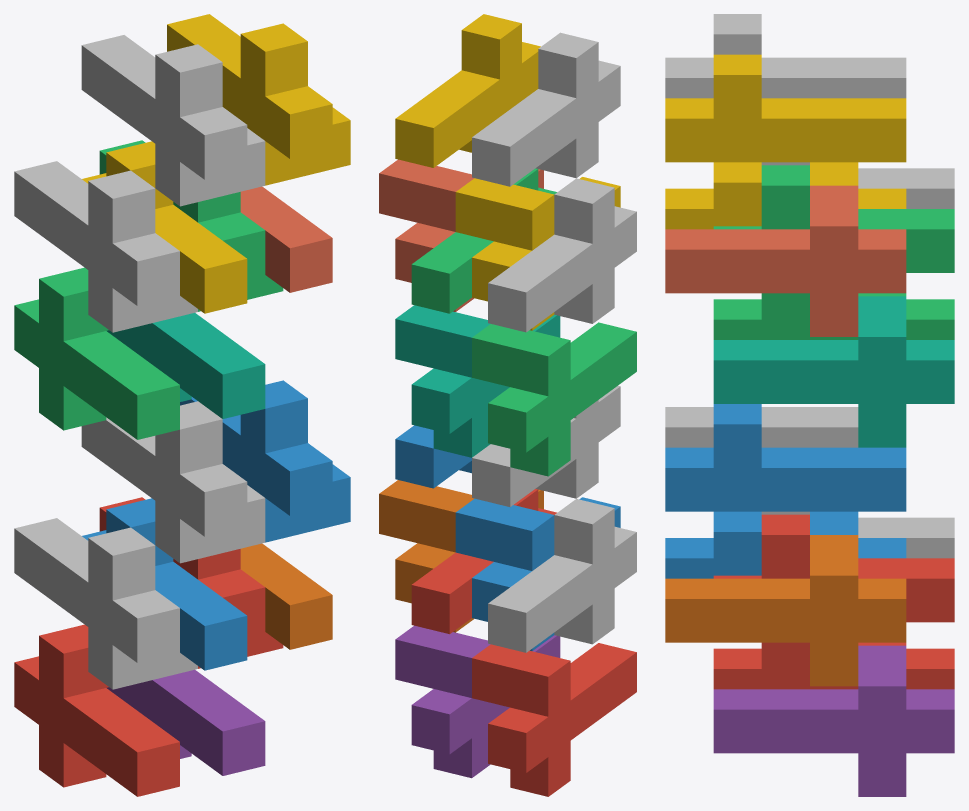
Rendered from tiling.obj.
3 renders of one model, left to right at view 1: azimuth 30°, elevation 25°; view 2: azimuth 150°, elevation 25°; view 3: azimuth 270°, elevation 25°, orthographic. The views are drawn at different scales.
Visible parts, largest first — view 1: copy_2_domain_4, copy_2_domain_3, copy_2_domain_1, copy_1_domain_1, copy_1_domain_3, copy_2_domain_2, copy_2_domain_8, copy_2_domain_6, copy_1_domain_5, copy_1_domain_7, copy_1_domain_2, copy_1_domain_4 (+4 smaller); view 2: copy_1_domain_1, copy_1_domain_3, copy_2_domain_4, copy_2_domain_3, copy_2_domain_1, copy_2_domain_8, copy_1_domain_5, copy_1_domain_7, copy_1_domain_2, copy_1_domain_4, copy_2_domain_2, copy_1_domain_6 (+4 smaller); view 3: copy_2_domain_8, copy_2_domain_6, copy_1_domain_5, copy_1_domain_6, copy_1_domain_8, copy_1_domain_7, copy_2_domain_4, copy_2_domain_5, copy_2_domain_7, copy_2_domain_2, copy_1_domain_1, copy_1_domain_3 (+4 smaller).
Boxes of the visible parts, x1,y1,x2,y2 form: copy_2_domain_4: (81, 35, 265, 206); copy_2_domain_3: (14, 161, 197, 332); copy_2_domain_1: (14, 518, 197, 689); copy_1_domain_1: (14, 624, 179, 796); copy_1_domain_3: (14, 267, 179, 439); copy_2_domain_2: (81, 401, 265, 563); copy_2_domain_8: (167, 14, 350, 185); copy_2_domain_6: (180, 380, 350, 542); copy_1_domain_5: (107, 669, 265, 775); copy_1_domain_7: (107, 313, 265, 418); copy_1_domain_2: (82, 498, 247, 670); copy_1_domain_4: (82, 141, 247, 313); copy_1_domain_1: (472, 643, 636, 796); copy_1_domain_3: (472, 322, 636, 476); copy_2_domain_4: (472, 32, 620, 186); copy_2_domain_3: (488, 178, 636, 332); copy_2_domain_1: (488, 499, 636, 652); copy_2_domain_8: (395, 14, 540, 167); copy_1_domain_5: (395, 625, 560, 778); copy_1_domain_7: (395, 305, 560, 457); copy_1_domain_2: (455, 497, 620, 650); copy_1_domain_4: (455, 177, 620, 330); copy_2_domain_2: (472, 385, 620, 506); copy_1_domain_6: (379, 480, 543, 632); copy_2_domain_8: (665, 54, 906, 226); copy_2_domain_6: (665, 404, 906, 575); copy_1_domain_5: (713, 645, 954, 796); copy_1_domain_6: (665, 535, 906, 686); copy_1_domain_8: (665, 185, 906, 336); copy_1_domain_7: (713, 296, 954, 447); copy_2_domain_4: (665, 14, 906, 98); copy_2_domain_5: (713, 514, 954, 686); copy_2_domain_7: (713, 165, 954, 336); copy_2_domain_2: (665, 407, 858, 447); copy_1_domain_1: (713, 642, 954, 689); copy_1_domain_3: (713, 293, 954, 339).
Bounding box in the file's own units: 5 × 17 × 6.
